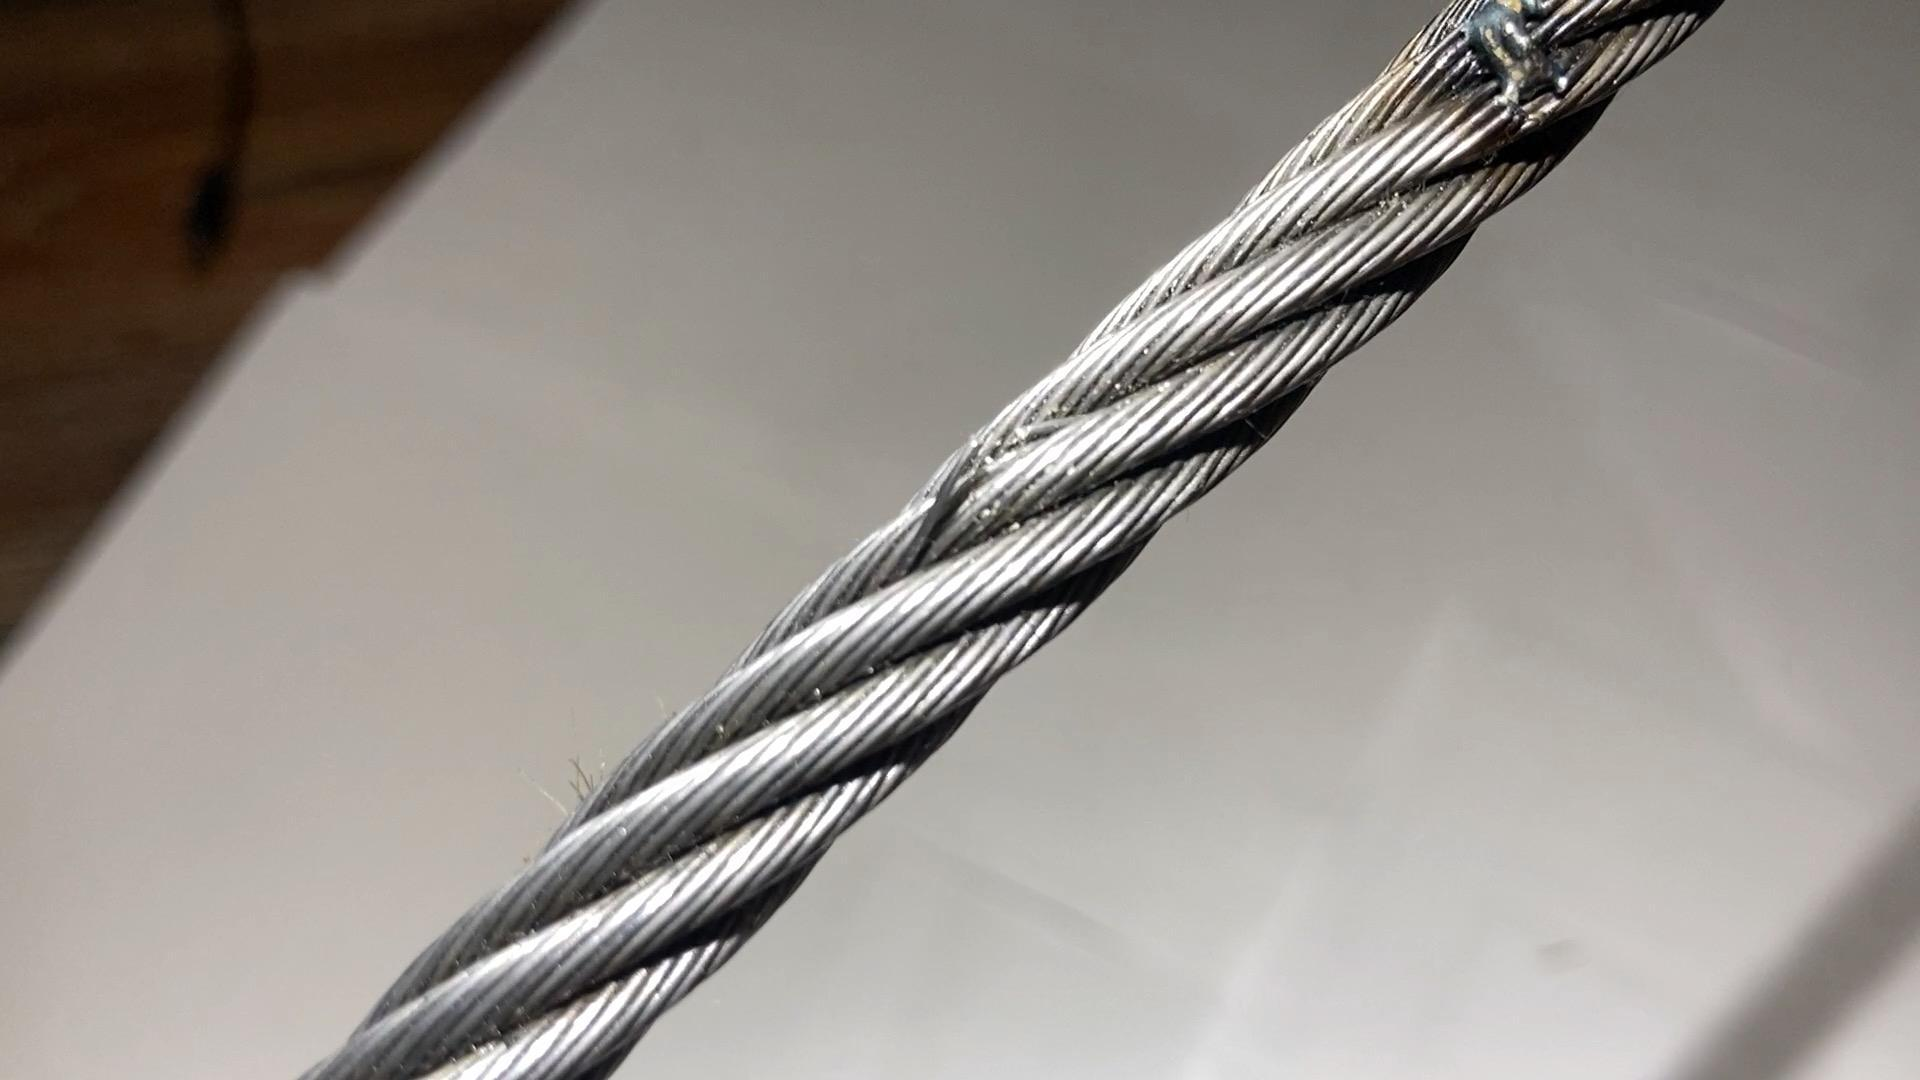thunderbolt: (1445, 11, 1584, 127)
